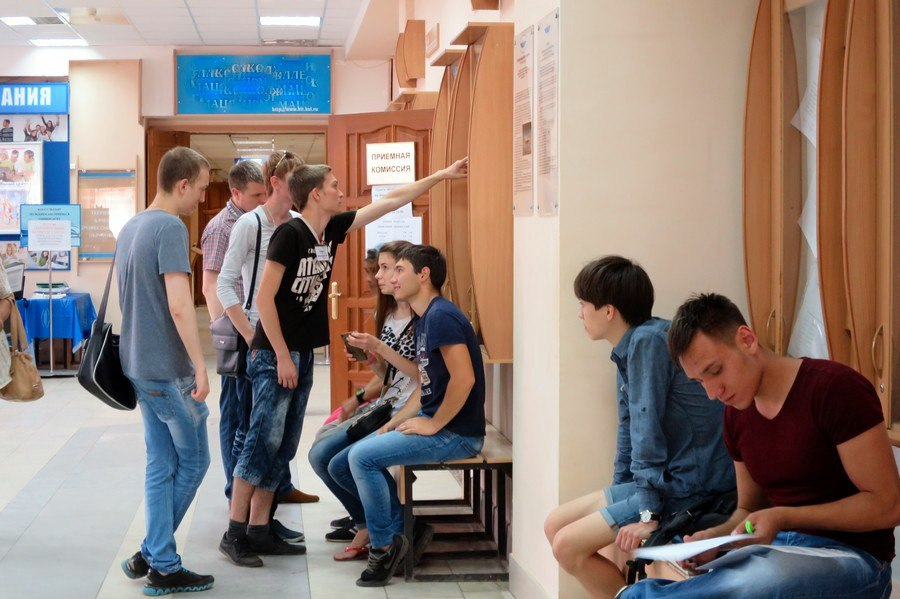students: (219, 165, 474, 567), (617, 294, 900, 597), (546, 254, 726, 597), (328, 244, 487, 587), (120, 146, 217, 596), (308, 240, 415, 564), (215, 149, 304, 468), (201, 161, 269, 321), (365, 247, 380, 293)
